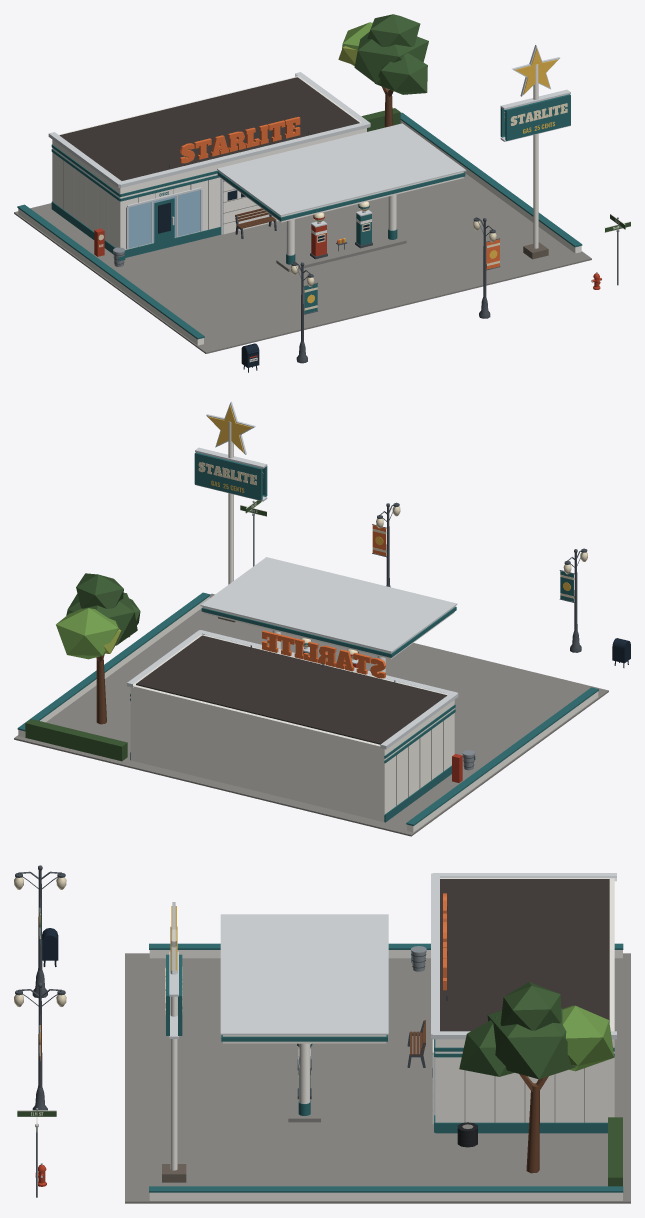
Rendered from Lobby_BlockGas.fbx.
The picture shows the model from 3 angles, top to bottom: view 1: azimuth 30°, elevation 25°; view 2: azimuth 150°, elevation 25°; view 3: azimuth 270°, elevation 25°; orthographic projection. The views are drawn at different scales.
Visible parts, largest first — view 1: Decor, DecorGlassSkyblue, DecorNeonHazard; view 2: Decor, DecorNeonHazard; view 3: Decor.
Part boxes in pixels (box(x1,y1,x2,y2)): Decor: box(14, 14, 630, 372); DecorGlassSkyblue: box(128, 190, 200, 248); DecorNeonHazard: box(515, 48, 557, 94); Decor: box(14, 401, 630, 836); DecorNeonHazard: box(208, 405, 251, 452); Decor: box(15, 865, 630, 1203).
Size of the model in its own units: 73 by 37.5 by 75.62.
